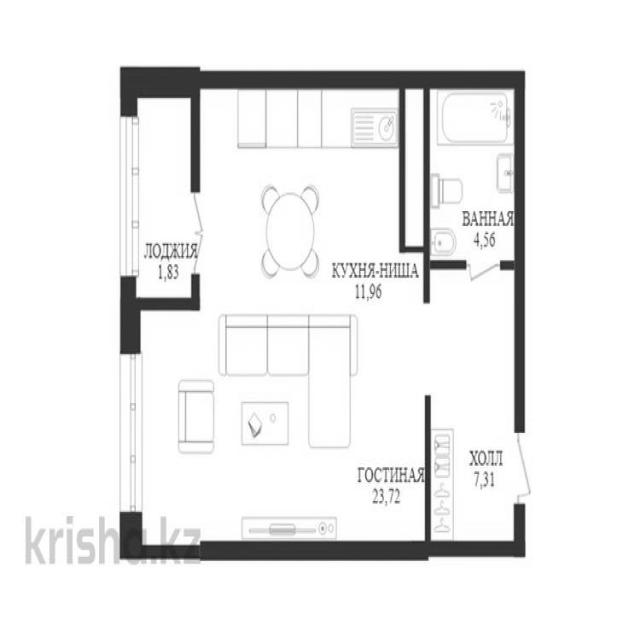balcony: (124, 74, 195, 304)
bathroom: (427, 77, 523, 266)
hallway: (427, 269, 520, 548)
studio: (197, 75, 427, 553)
